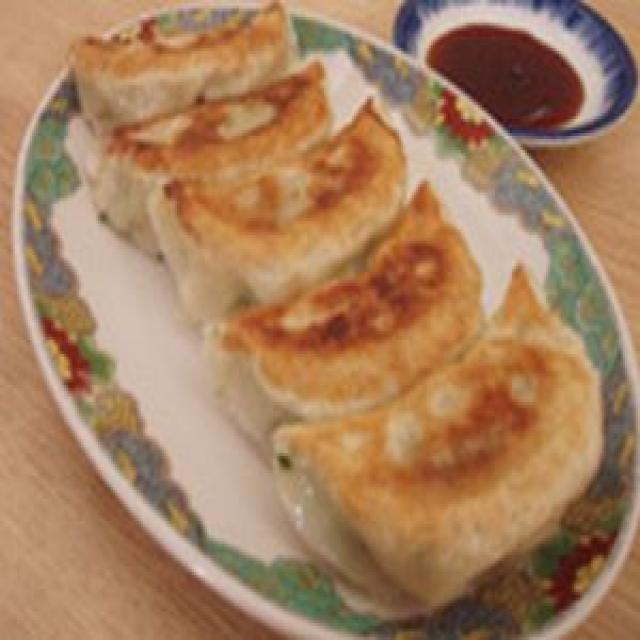带馅早点: (47, 0, 602, 598)
